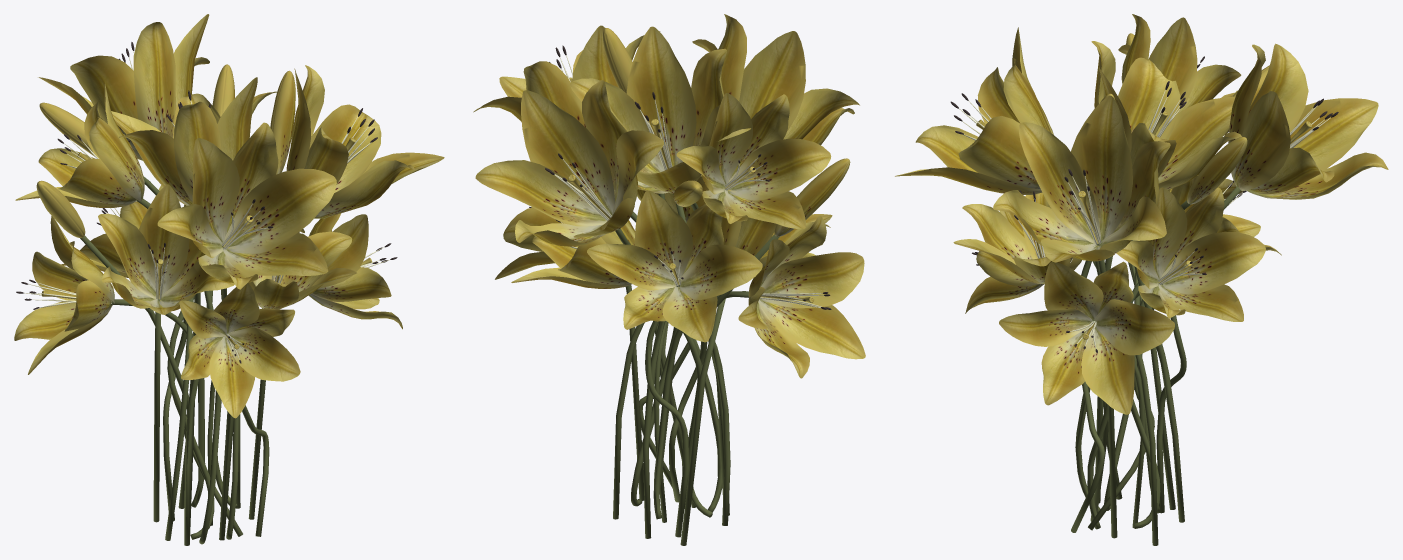
File: flores-amarillas-con-jarron-de-vidrio.glb
3 views of the same model, side by side, from view 1: azimuth 30°, elevation 25°; view 2: azimuth 150°, elevation 25°; view 3: azimuth 270°, elevation 25° (orthographic). The views are drawn at different scales.
Parts seen in each view (by area): view 1: SketchUp.008, SketchUp.005, SketchUp.089, SketchUp.088; view 2: SketchUp.008, SketchUp.005, SketchUp.089; view 3: SketchUp.008, SketchUp.005, SketchUp.089, SketchUp.088.
Part boxes in pixels (box(x1,y1,x2,y2)): SketchUp.008: box(14, 14, 444, 418); SketchUp.005: box(80, 176, 269, 545); SketchUp.089: box(24, 51, 389, 359); SketchUp.088: box(16, 42, 397, 363); SketchUp.008: box(473, 14, 865, 378); SketchUp.005: box(613, 187, 779, 545); SketchUp.089: box(554, 55, 823, 308); SketchUp.008: box(895, 14, 1388, 414); SketchUp.005: box(1071, 186, 1240, 545); SketchUp.089: box(959, 62, 1330, 348); SketchUp.088: box(950, 56, 1338, 353).
Size of what is drawn, in the model's own units: 0.4804 by 0.5551 by 0.513.
4 materials, 1 textured.
